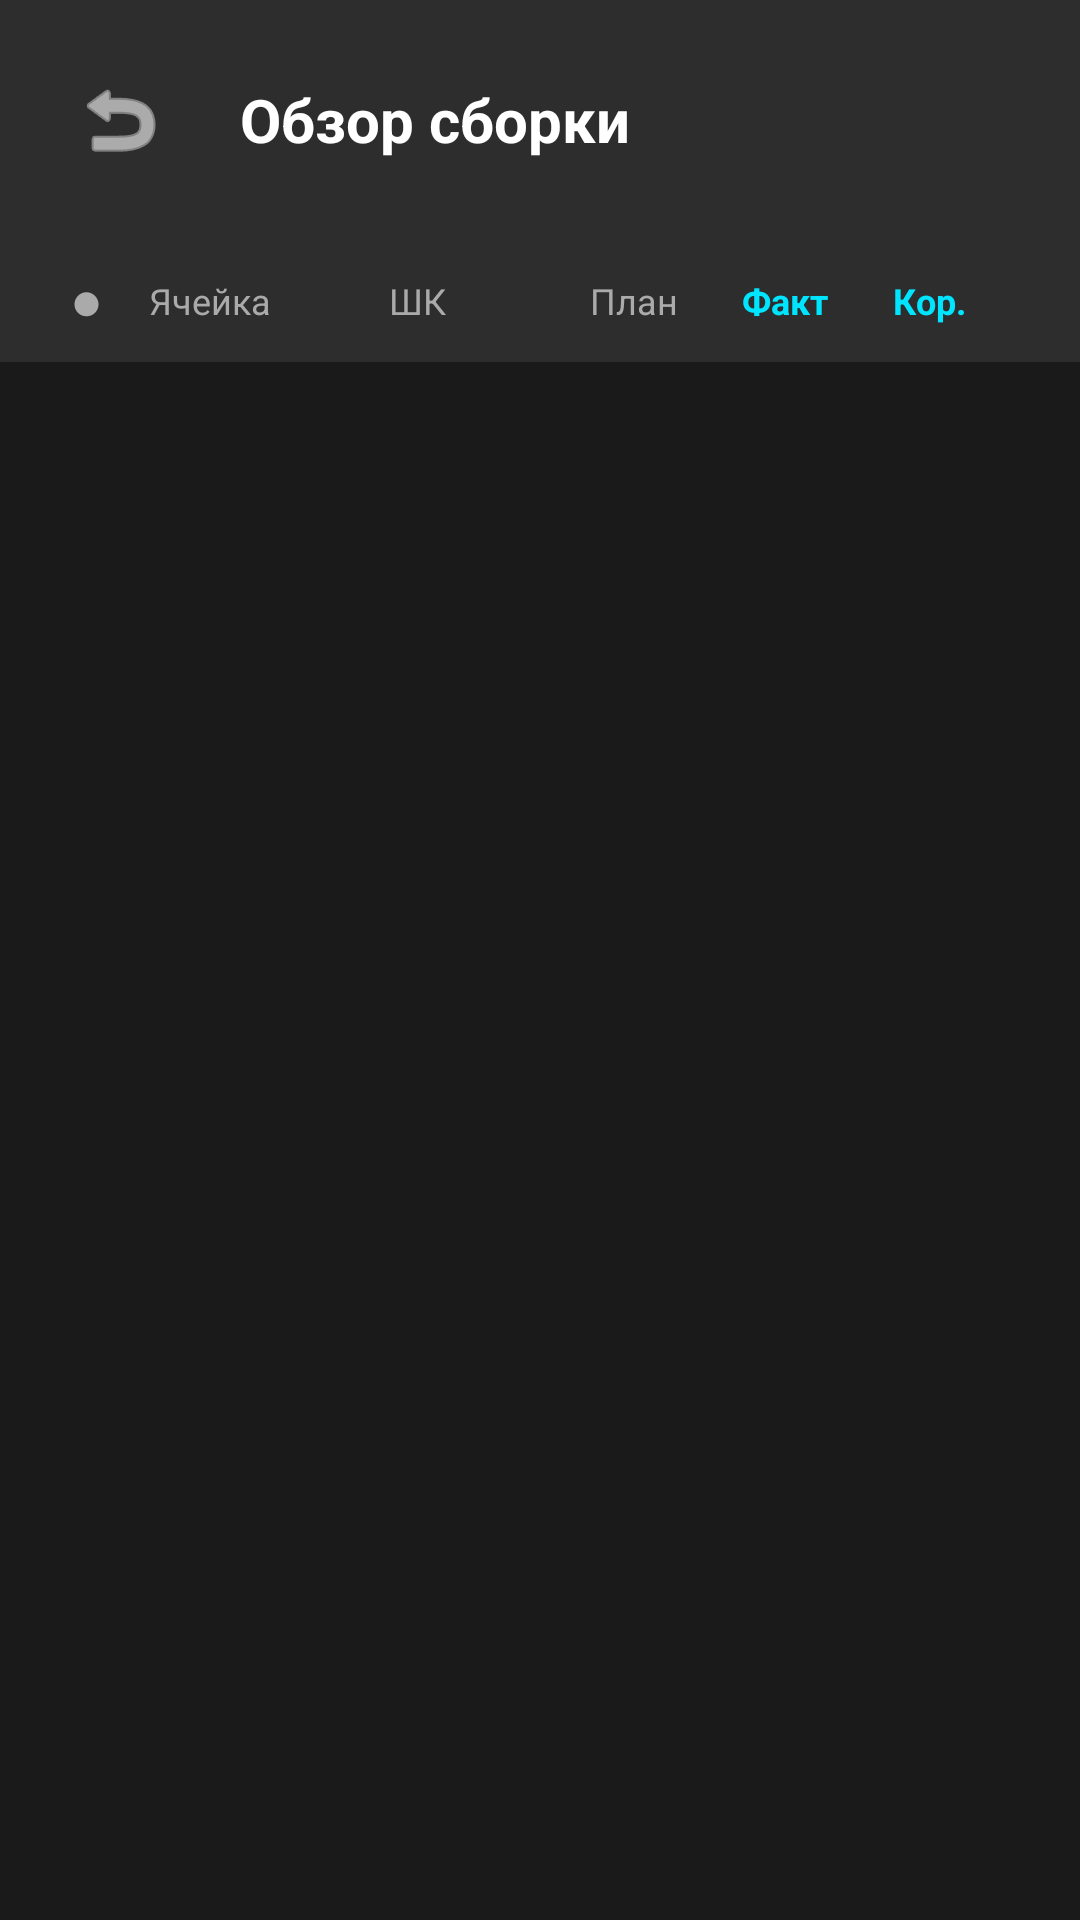

Point at icon controls on the screen. Image size 1080 x 1920, points as (x=x, y=y).
Назад: (x=121, y=120)
